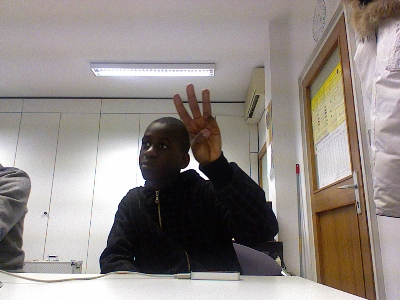三分: (171, 82, 222, 164)
